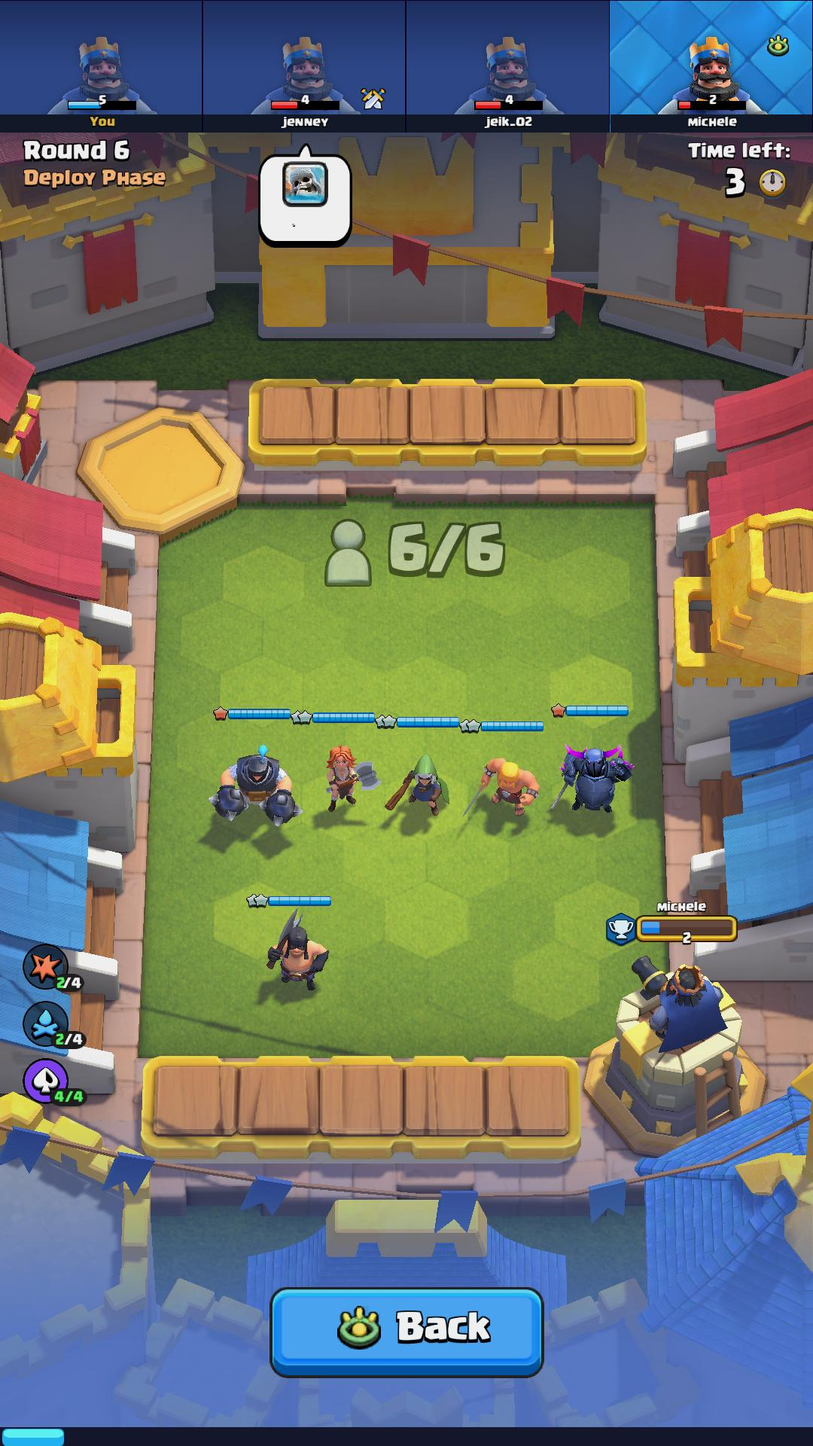bandit: (381, 748, 458, 825)
barbarian: (472, 734, 546, 832)
executioner: (255, 914, 341, 992)
mega: (203, 742, 301, 830)
pekka: (550, 728, 641, 826)
valkyrie: (317, 732, 379, 818)
